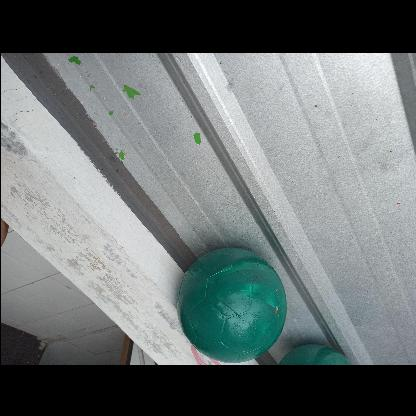green_ball: (174, 248, 290, 364)
